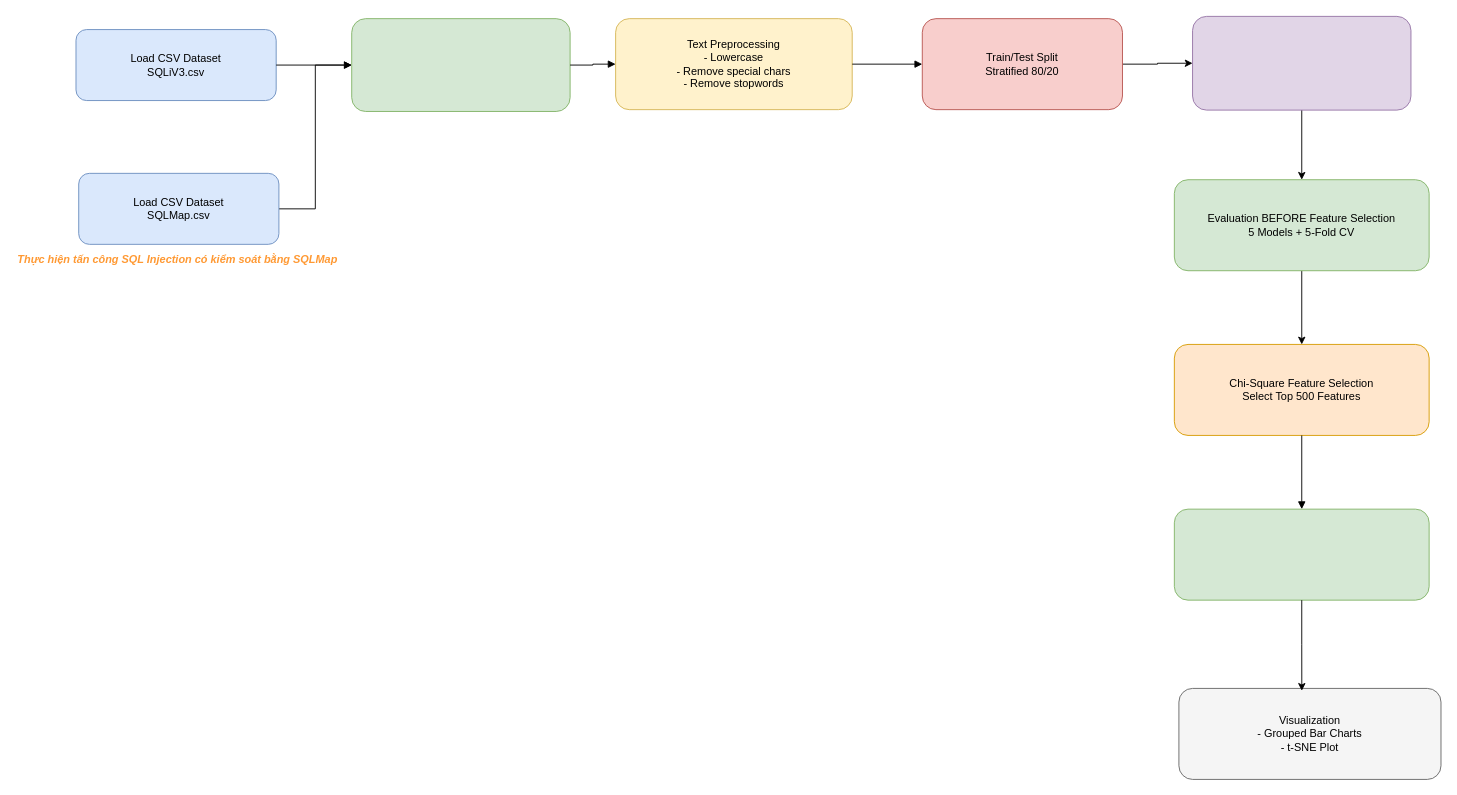
Some shapes in this 1457 by 795 pixel diagram are drawn without their labels. Here are the shapes that lost their labels. From the top down, the centre of each, then its label:
(x=460, y=64): Data Cleaning - Drop NaN - Label 0/1
(x=1301, y=62): TF-IDF Vectorization Text → Sparse Matrix
(x=1301, y=554): Evaluation AFTER Feature Selection 5 Models + 5-Fold CV
